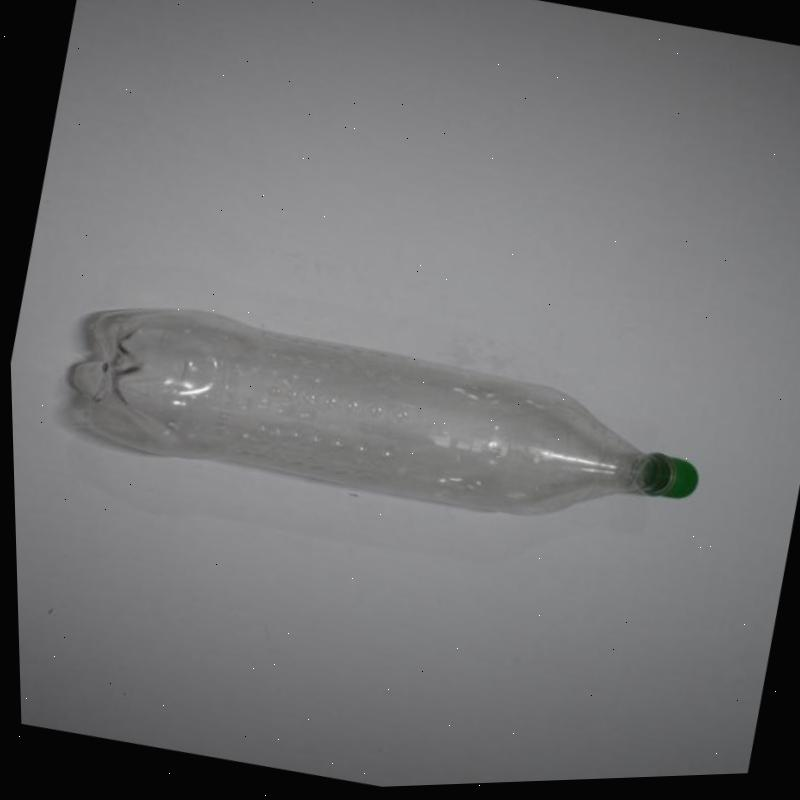botella: (46, 274, 710, 571)
